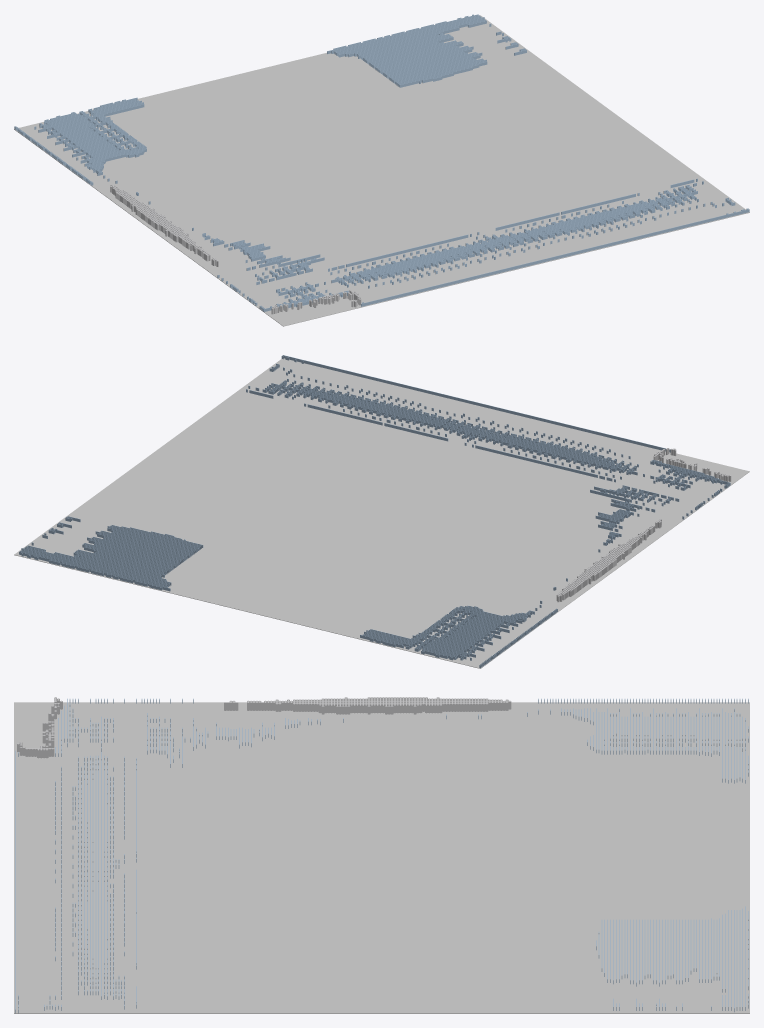
File: floorplan_3d_shell.glb
The picture shows the model from 3 angles, top to bottom: view 1: azimuth 30°, elevation 25°; view 2: azimuth 150°, elevation 25°; view 3: azimuth 270°, elevation 25°; orthographic projection. The views are drawn at different scales.
Visible parts, largest first — view 1: world; view 2: world; view 3: world.
Boxes of the visible parts, left/top/right/bottom form: world: left=14, top=14, right=749, bottom=326; world: left=14, top=355, right=749, bottom=668; world: left=14, top=697, right=749, bottom=1013.
Size of the model in its own units: 256 by 3.2 by 256.
